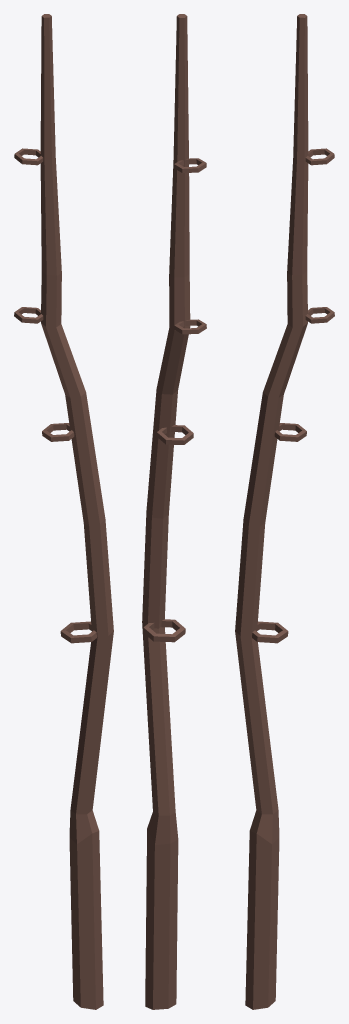
Rendered from fishing-rod-lvl1.glb.
3 views of the same model, side by side, from view 1: azimuth 90°, elevation 25°; view 2: azimuth 210°, elevation 25°; view 3: azimuth 270°, elevation 25° (orthographic).
Parts seen in each view (by area): view 1: FishingRod_Lvl1; view 2: FishingRod_Lvl1; view 3: FishingRod_Lvl1.
Boxes of the visible parts, x1,y1,x2,y2 form: FishingRod_Lvl1: [14, 14, 113, 1009]; FishingRod_Lvl1: [142, 14, 206, 1009]; FishingRod_Lvl1: [235, 14, 334, 1009].
Bounding box in the file's own units: 0.2084 × 6.3 × 0.5769.
